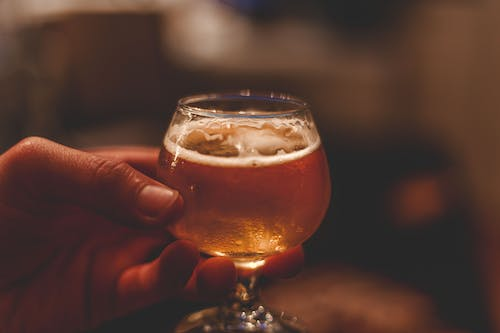alcohol: (156, 89, 333, 333)
